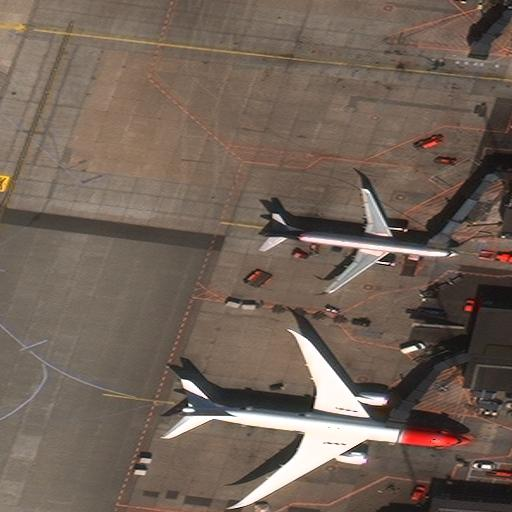Large Civil Transport: (178, 336, 472, 505)
Medium Civil Transport: (258, 189, 463, 293)
